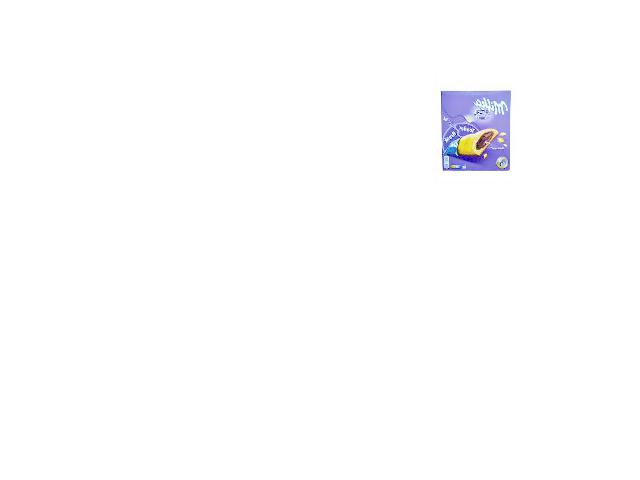chocolate: (438, 85, 514, 176)
